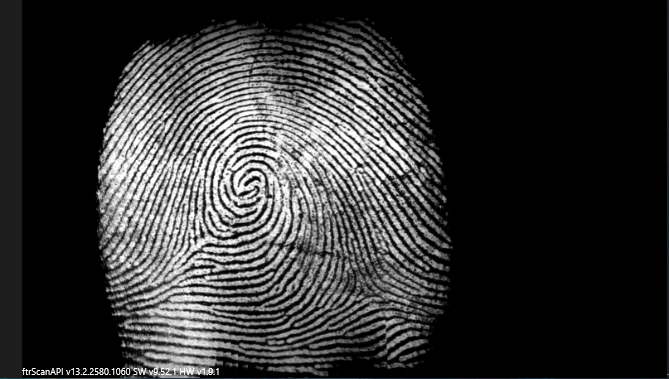nucelo: (232, 172, 257, 194)
verticilo: (351, 279, 376, 301), (192, 224, 211, 247)
